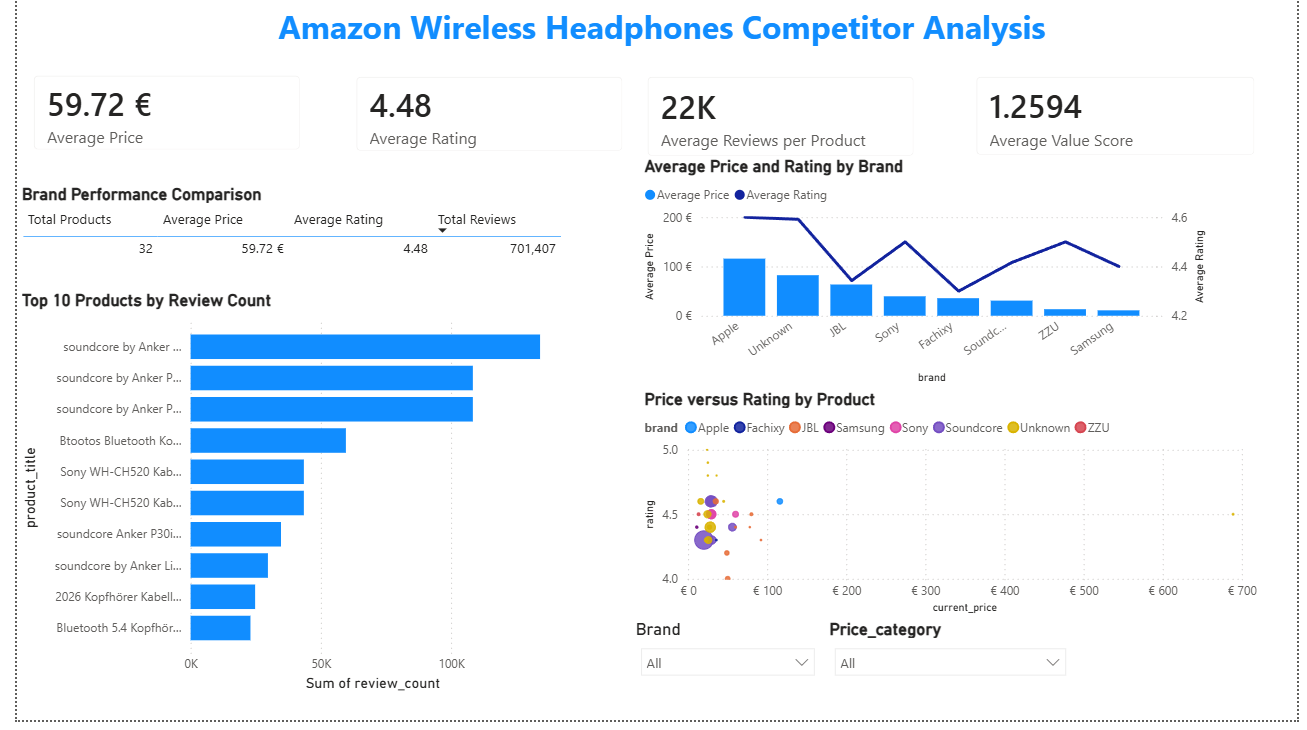

The dashboard page shown, as its layout file describes it:
{"tool":"powerbi","page":{"name":"Competitor Analysis","canvas":[1280,720],"ordinal":1},"visuals":[{"type":"textbox","box":[255.7,0,797.1,58.6],"z":0},{"type":"cardVisual","fields":{"Data":["_Measures.Average Price"]},"box":[0,58.6,300,108.6],"z":1000},{"type":"cardVisual","fields":{"Data":["_Measures.Average Rating"]},"box":[322.9,60,300,108.6],"z":2000},{"type":"cardVisual","fields":{"Data":["_Measures.Average Reviews per Product"]},"box":[613.3,60,300,113.3],"z":3000},{"type":"cardVisual","fields":{"Data":["_Measures.Average Value Score"]},"box":[942.9,60,312.9,112.9],"z":4000},{"type":"tableEx","title":"Brand Performance Comparison","fields":{"Values":["_Measures.Total Products","_Measures.Average Price","_Measures.Average Rating","_Measures.Total Reviews"]},"box":[0,184.3,551.4,127.1],"z":5000},{"type":"lineClusteredColumnComboChart","title":"Average Price and Rating by Brand","fields":{"Category":["public dim_products.brand"],"Y":["_Measures.Average Price"],"Y2":["_Measures.Average Rating"]},"box":[622.5,156.2,571.2,232.5],"z":6000},{"type":"clusteredBarChart","title":"Top 10 Products by Review Count","fields":{"Category":["public dim_products.product_title"],"Y":["Sum(latest_product_observations.review_count)"]},"box":[0,290,557.5,406.2],"z":7000},{"type":"scatterChart","title":"Price versus Rating by Product","fields":{"X":["latest_product_observations.current_price"],"Y":["latest_product_observations.rating"],"Size":["Sum(latest_product_observations.review_count)"],"Series":["public dim_products.brand"]},"box":[622.5,388.8,622.5,230],"z":7001},{"type":"slicer","title":"Brand","fields":{"Values":["public dim_products.brand"]},"box":[613.8,618.8,193.8,77.5],"z":7002},{"type":"slicer","title":"Price_category","fields":{"Values":["latest_product_observations.price_category"]},"box":[807.5,618.8,251.2,101.2],"z":7003}]}

Visuals, with their boxes in screenshot pixels (x1, y1, x2, y2), scaled from the page's 1280x720 canvas onto the 1307x730 screenshot:
textbox: [261,0,1075,59]
cardVisual - _Measures.Average Price: [0,59,306,170]
cardVisual - _Measures.Average Rating: [330,61,636,171]
cardVisual - _Measures.Average Reviews per Product: [626,61,933,176]
cardVisual - _Measures.Average Value Score: [963,61,1282,175]
"Brand Performance Comparison" tableEx: [0,187,563,316]
"Average Price and Rating by Brand" lineClusteredColumnComboChart: [636,158,1219,394]
"Top 10 Products by Review Count" clusteredBarChart: [0,294,569,706]
"Price versus Rating by Product" scatterChart: [636,394,1271,627]
"Brand" slicer: [627,627,825,706]
"Price_category" slicer: [825,627,1081,729]
